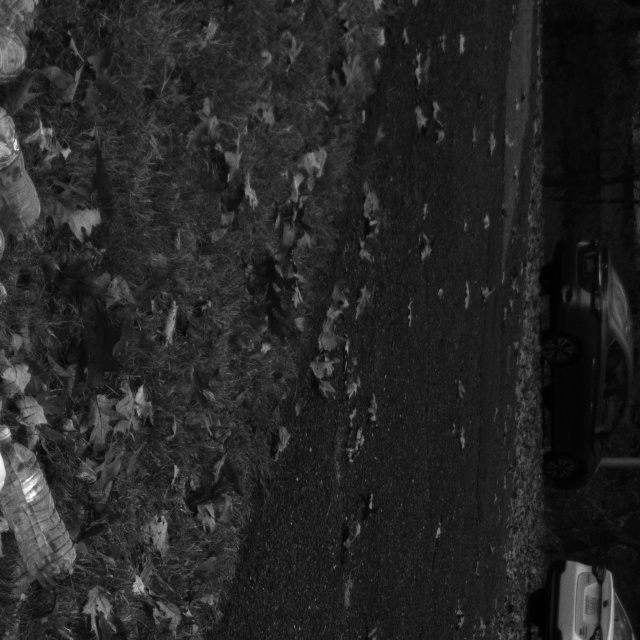bottle: (0, 417, 102, 596)
